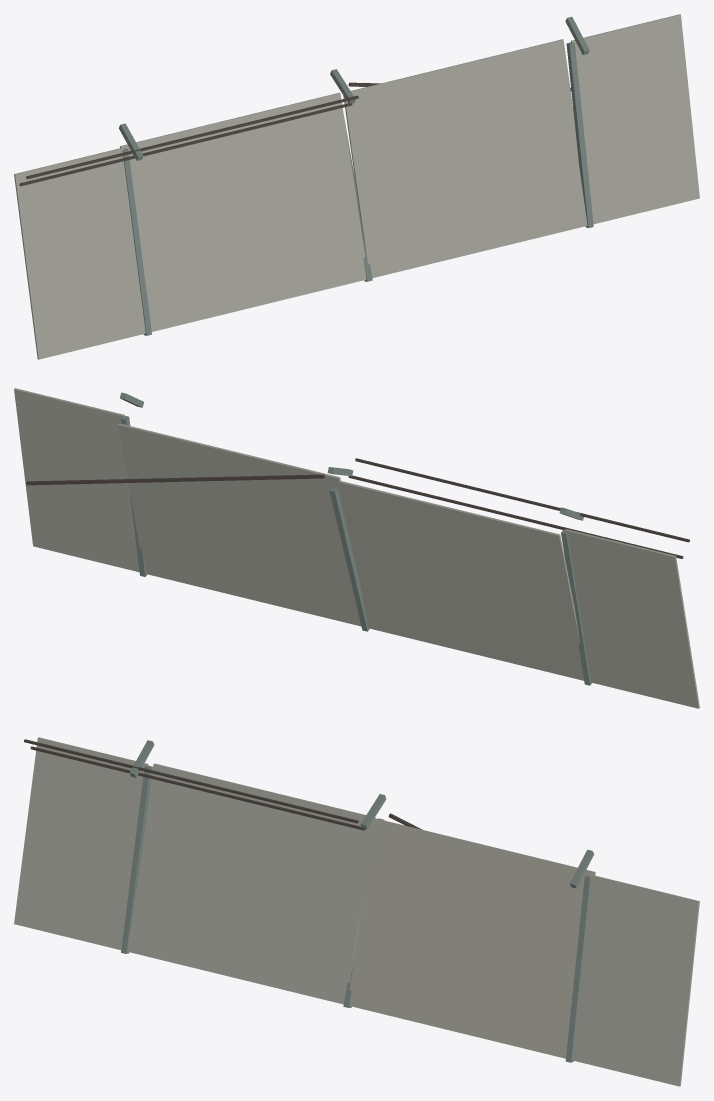
The model's file is SM_VallaBetera_Malla_e2_Danada_LOD0.fbx.
3 renders of one model, top to bottom at view 1: azimuth 30°, elevation 25°; view 2: azimuth 150°, elevation 25°; view 3: azimuth 330°, elevation 25°, orthographic.
Visible parts, largest first — view 1: SM_valla_estados_v2_LOD0; view 2: SM_valla_estados_v2_LOD0; view 3: SM_valla_estados_v2_LOD0.
Boxes of the visible parts, left/top/right/bottom form: SM_valla_estados_v2_LOD0: left=14, top=14, right=699, bottom=359; SM_valla_estados_v2_LOD0: left=14, top=388, right=699, bottom=708; SM_valla_estados_v2_LOD0: left=14, top=737, right=699, bottom=1086.
Size of the model in its own units: 9.99 by 2.83 by 0.9827.
